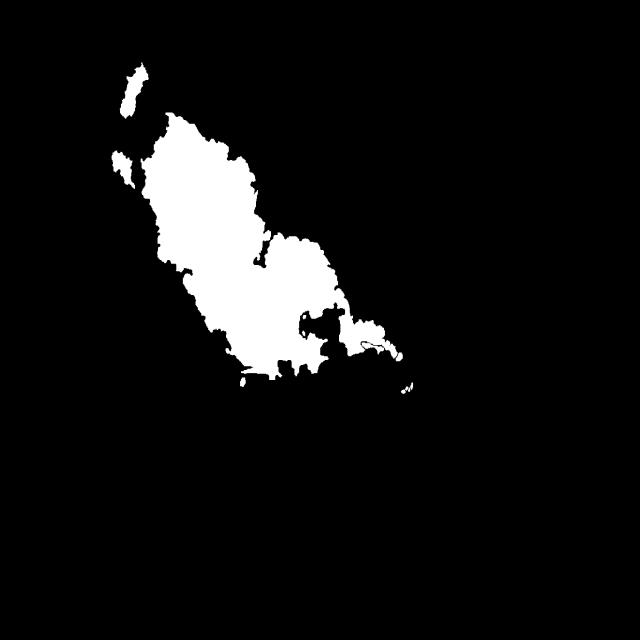fire: (94, 67, 406, 458)
